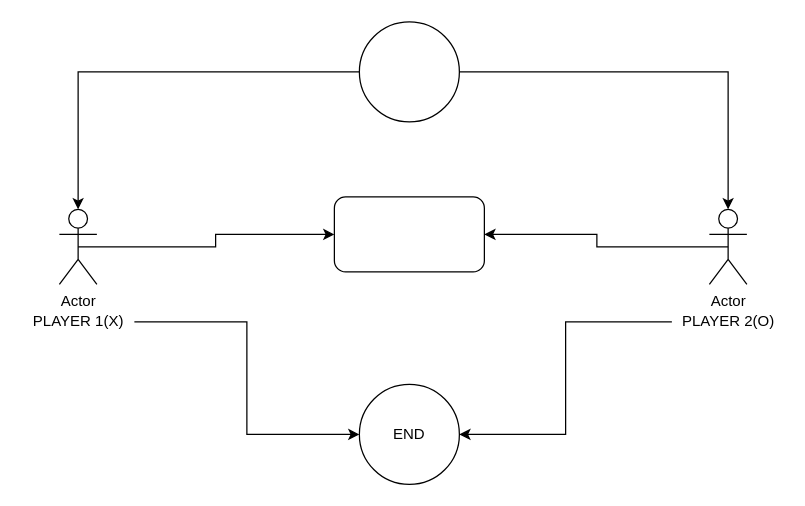
This 805x506 diagram has some shape labels left out. Here are the shapes that lost their labels. From the top down, the box of each, then its label:
(358, 21, 459, 122): START
(333, 196, 484, 272): Make Moves
